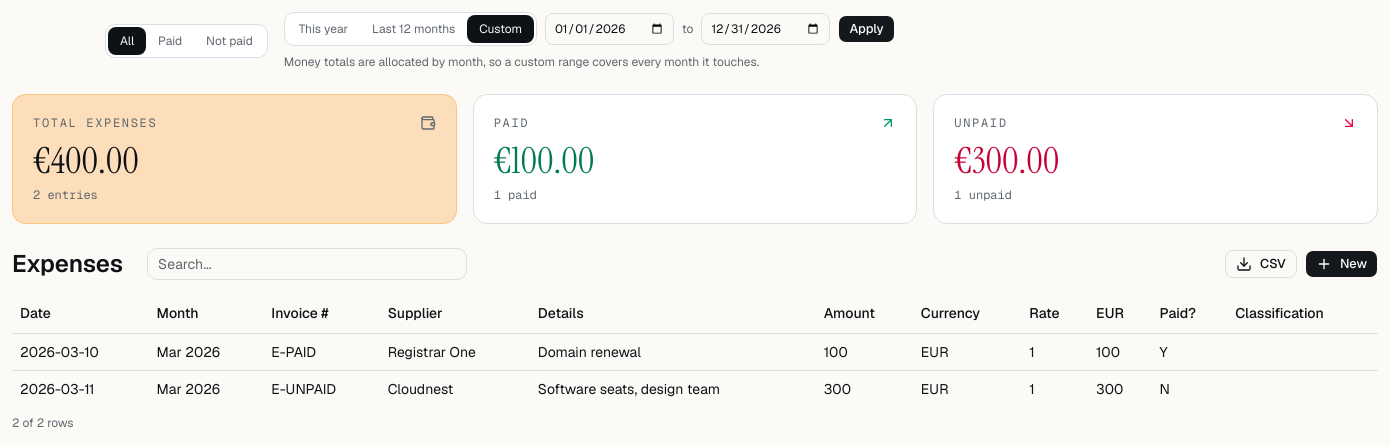
it: Expenses paid filter › shows only the paid ones under Paid
Click the button "Paid" at (170, 41), box [146,27,194,55]
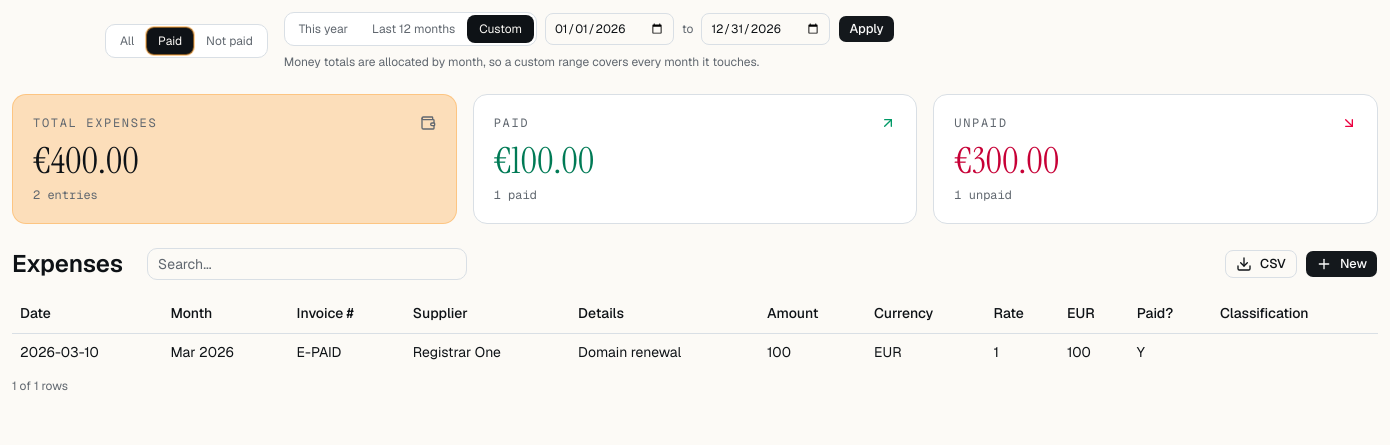
Expected: the text "E-PAID" is shown, [289,333,405,370]
Expected: the text "E-UNPAID" is gone
